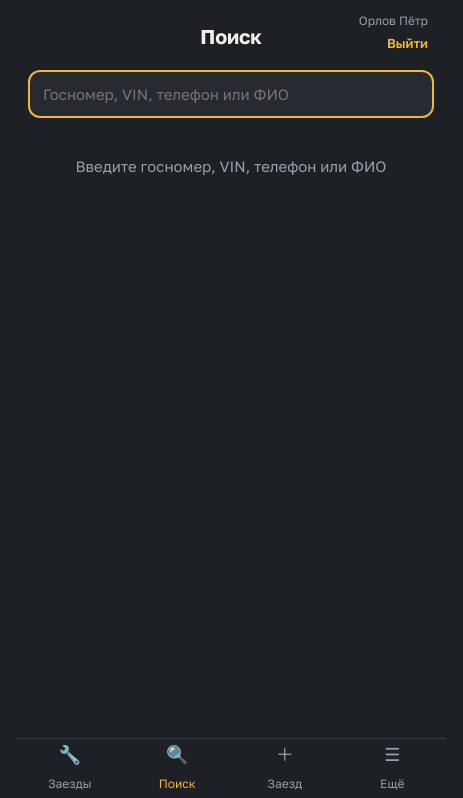
Test: search with no results says so
In the search field named "Поиск": x=231, y=94 [30,72,432,116], type "zzzz"
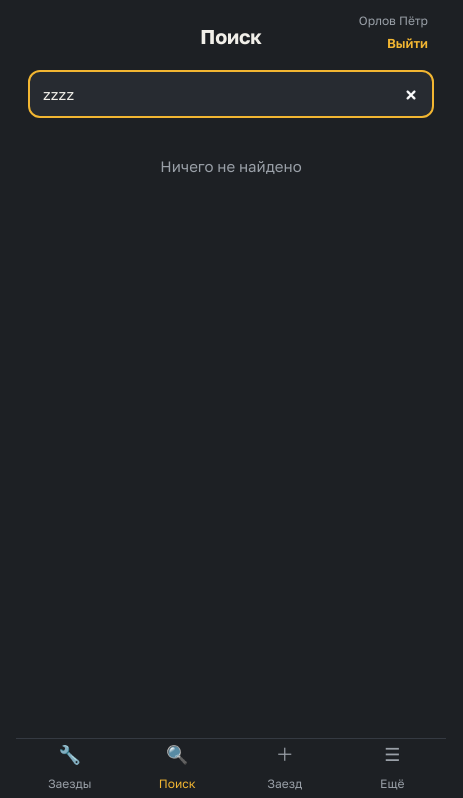
expect the text "Ничего не найдено" is shown: met, box [160,156,302,176]
